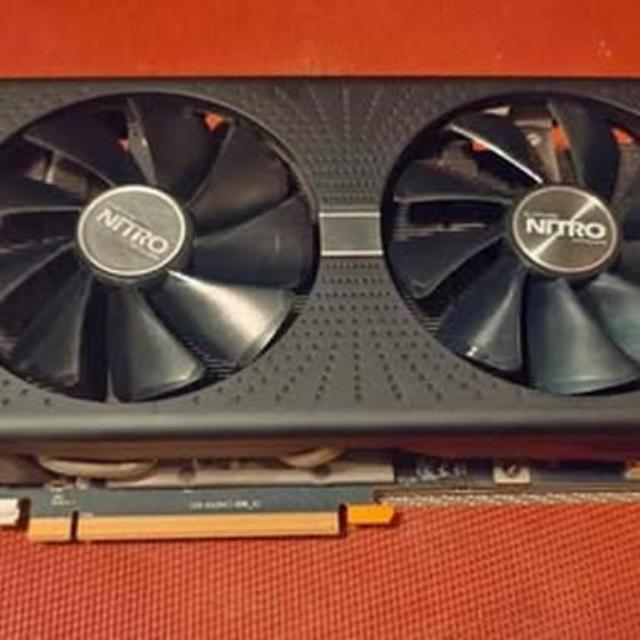GPU: (0, 59, 640, 556)
